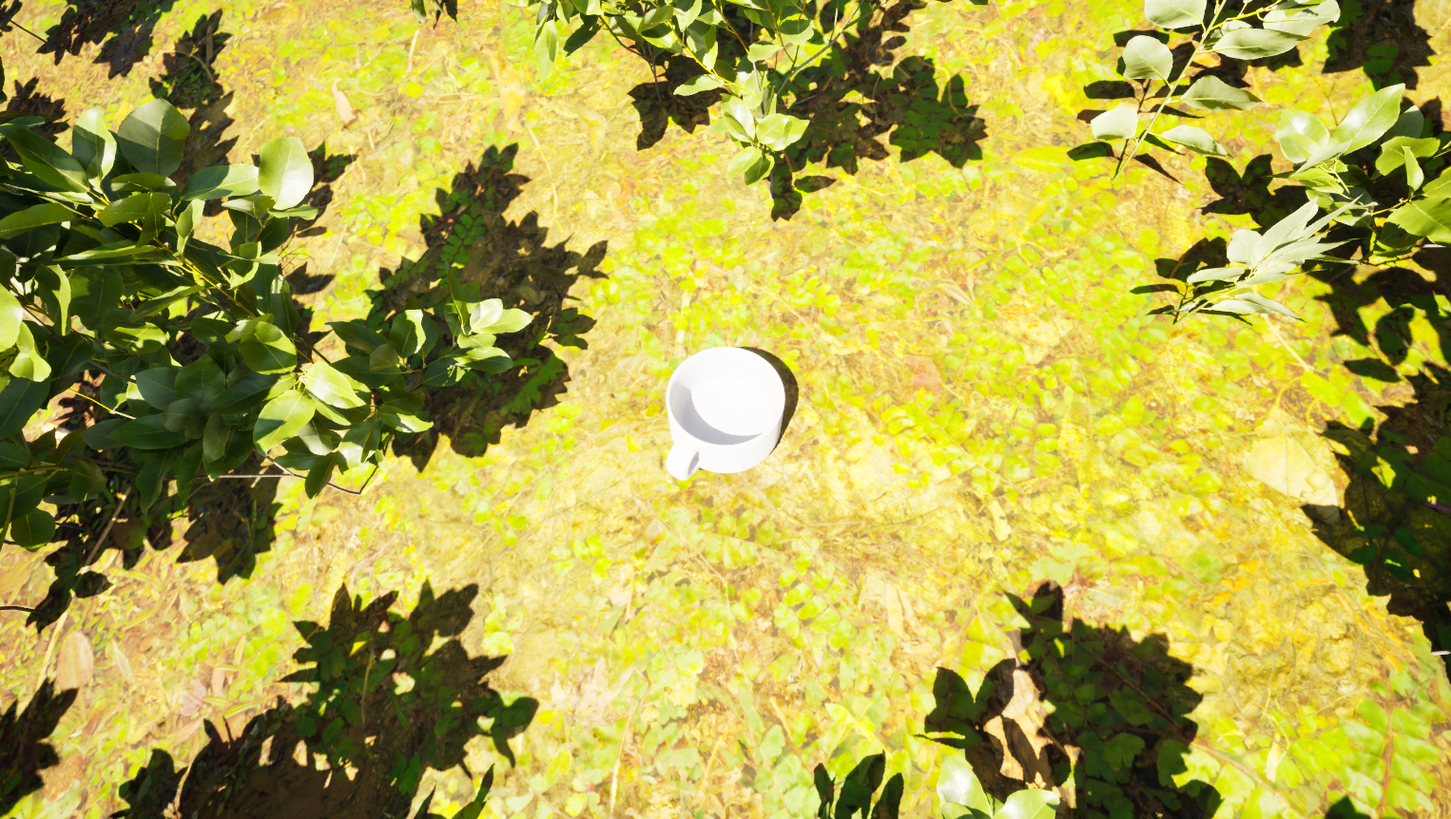Teacup: (633, 333, 805, 496)
